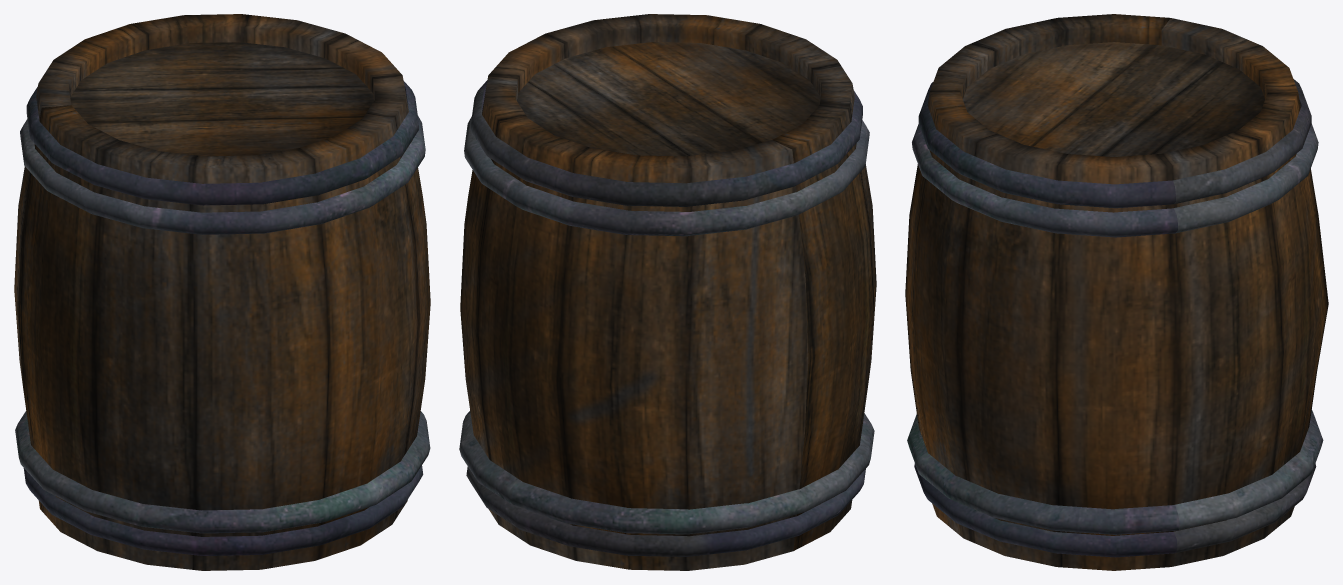
Rendered from Small_old_barrel.FBX.
The picture shows the model from 3 angles, left to right: view 1: azimuth 30°, elevation 25°; view 2: azimuth 150°, elevation 25°; view 3: azimuth 270°, elevation 25°; orthographic projection.
Visible parts, largest first — view 1: Small_old_barrel; view 2: Small_old_barrel; view 3: Small_old_barrel.
Boxes of the visible parts, x1,y1,x2,y2 form: Small_old_barrel: (14,14,430,570); Small_old_barrel: (459,14,876,570); Small_old_barrel: (905,14,1328,570).
Bounding box in the file's own units: 26.12 × 27.58 × 26.44.
